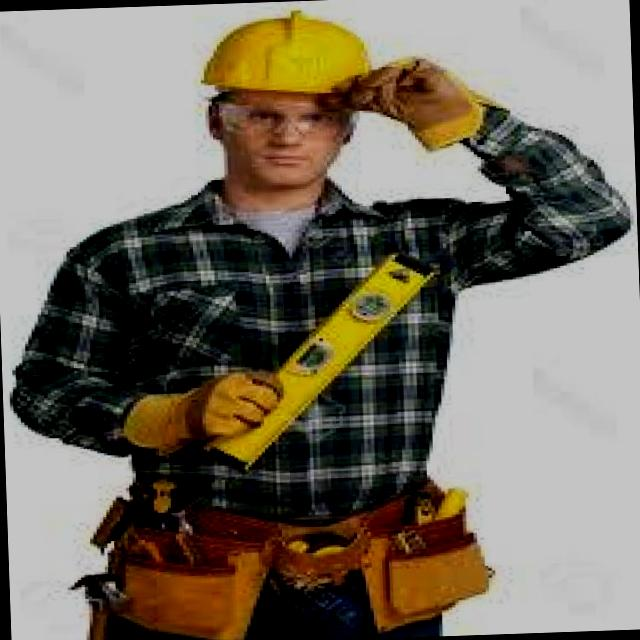gloves: (100, 332, 302, 480), (346, 21, 502, 182)
helmet: (201, 4, 372, 96)
no-vest: (44, 186, 482, 554)
